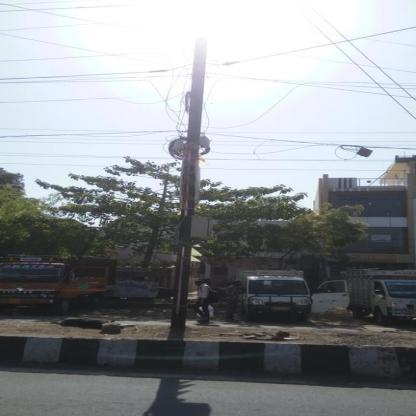Electrical Pole: (140, 31, 225, 336)
